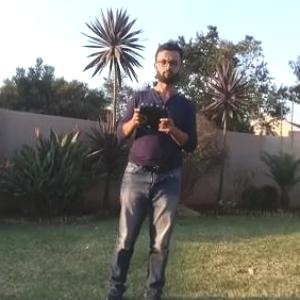follow: (97, 33, 202, 299)
